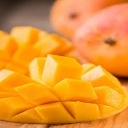mango: (3, 55, 128, 124)
